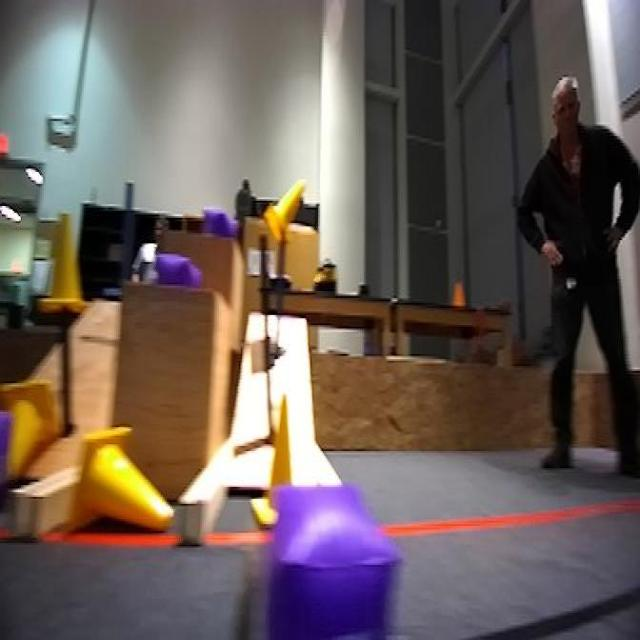frc_cone: (77, 422, 178, 547), (247, 392, 317, 531), (0, 379, 53, 480), (45, 210, 95, 316), (260, 175, 309, 245)
frc_cube: (248, 484, 400, 636), (154, 248, 197, 290), (201, 203, 235, 238)
